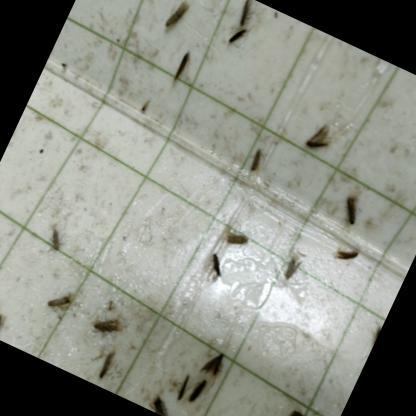prays_oleae: (196, 346, 236, 390), (90, 342, 124, 389), (300, 122, 338, 164), (332, 191, 368, 235), (357, 316, 386, 370), (37, 223, 71, 266), (220, 219, 259, 256), (168, 365, 198, 411), (221, 23, 257, 61), (90, 306, 130, 340), (156, 0, 191, 37), (183, 376, 215, 416), (166, 44, 196, 84), (274, 252, 303, 292), (326, 239, 360, 272), (244, 138, 272, 178), (230, 0, 264, 30), (146, 385, 177, 416), (41, 286, 75, 314), (201, 247, 230, 276), (281, 398, 316, 416), (0, 305, 15, 342)
